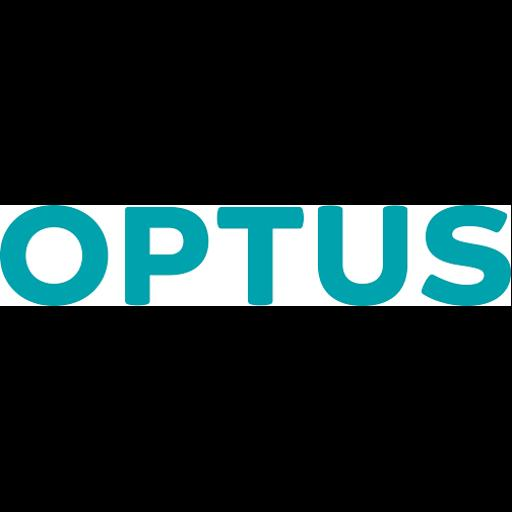Singtel Optus: (0, 205, 511, 306)
